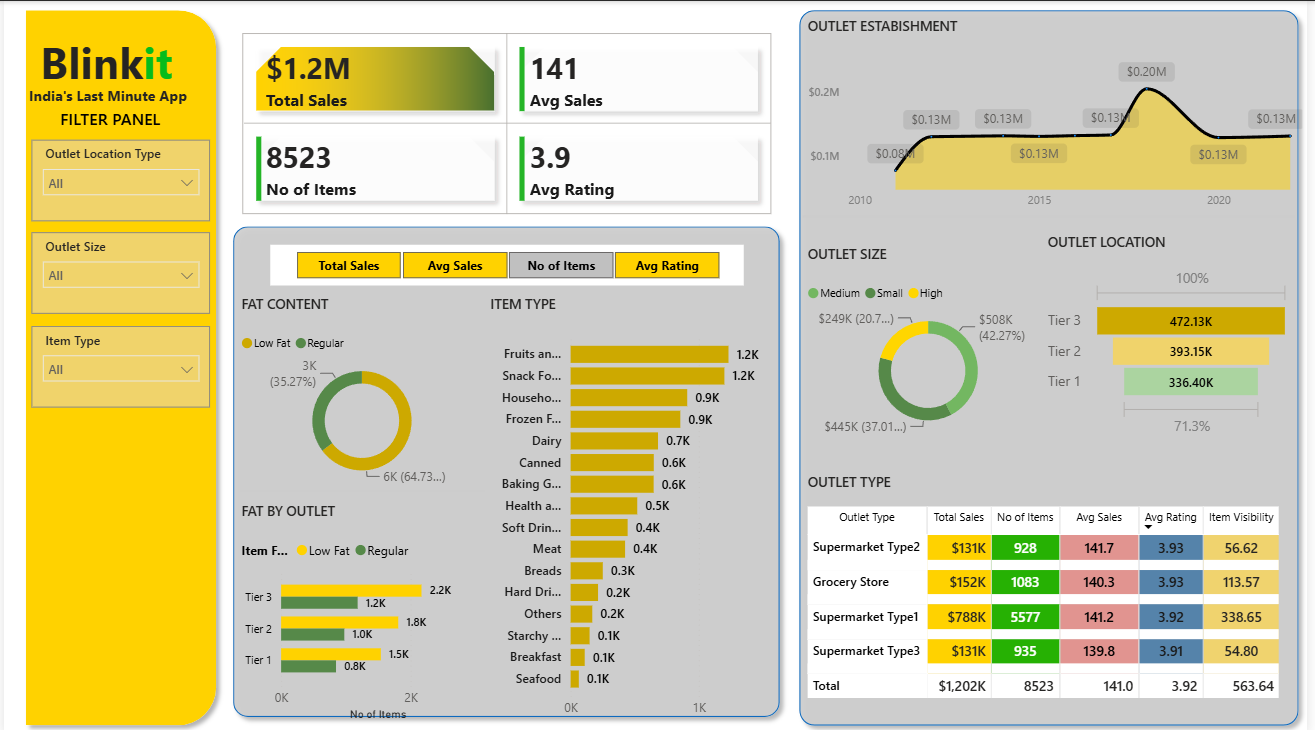

What the dashboard file says about the page in this screenshot:
{"tool":"powerbi","page":{"name":"Page 1","canvas":[1280,720],"ordinal":0},"visuals":[{"type":"shape","box":[12.3,0,205,720],"z":0},{"type":"textbox","box":[30.2,26.1,149.6,70],"z":1000},{"type":"textbox","box":[19.2,78.2,172.9,57.6],"z":2000},{"type":"cardVisual","fields":{"Data":["BlinkIT Grocery Data.Total Sales","BlinkIT Grocery Data.Avg Sales","BlinkIT Grocery Data.No of Items","BlinkIT Grocery Data.Avg Rating"]},"box":[217.2,14.7,553.4,212.3],"z":3000},{"type":"shape","box":[216,212.3,554.4,499.5],"z":4000},{"type":"donutChart","title":"FAT CONTENT","fields":{"Y":["BlinkIT Grocery Data.No of Items"],"Category":["BlinkIT Grocery Data.Item Fat Content"]},"box":[228.2,288.3,246.6,192.6],"z":5000},{"type":"slicer","fields":{"Values":["Metrics.Metrics"]},"box":[261.4,239.3,465,40],"z":6000},{"type":"clusteredBarChart","title":"FAT BY OUTLET","fields":{"Y":["BlinkIT Grocery Data.No of Items"],"Category":["BlinkIT Grocery Data.Outlet Location Type"],"Series":["BlinkIT Grocery Data.Item Fat Content"]},"box":[228.2,490.8,246.6,220.9],"z":7000},{"type":"shape","box":[231.9,466.3,240.5,29.4],"z":8000},{"type":"barChart","title":"ITEM TYPE","fields":{"Y":["BlinkIT Grocery Data.No of Items"],"Category":["BlinkIT Grocery Data.Item Type"]},"box":[472.4,288.3,284.7,423.3],"z":9000},{"type":"shape","box":[771.8,0,508,720.2],"z":10000},{"type":"lineChart","title":"OUTLET ESTABISHMENT","fields":{"Y":["BlinkIT Grocery Data.Total Sales"],"Category":["BlinkIT Grocery Data.Outlet Establishment Year"]},"box":[784.1,14.7,495.7,197.5],"z":11000},{"type":"shape","box":[784.1,196.3,483.4,30.7],"z":12000},{"type":"donutChart","title":"OUTLET SIZE","fields":{"Category":["BlinkIT Grocery Data.Outlet Size"],"Y":["BlinkIT Grocery Data.Total Sales"]},"box":[784.1,239.3,246.6,192.6],"z":13000},{"type":"funnel","title":"OUTLET LOCATION","fields":{"Y":["Sum(BlinkIT Grocery Data.Sales)"],"Category":["BlinkIT Grocery Data.Outlet Location Type"]},"box":[1019.6,227,247.9,204.9],"z":13001},{"type":"pivotTable","title":"OUTLET TYPE","fields":{"Values":["BlinkIT Grocery Data.Total Sales","BlinkIT Grocery Data.No of Items","BlinkIT Grocery Data.Avg Sales","BlinkIT Grocery Data.Avg Rating","Sum(BlinkIT Grocery Data.Item Visibility)"],"Rows":["BlinkIT Grocery Data.Outlet Type"]},"box":[784.1,462.6,483.4,245.4],"z":13002},{"type":"actionButton","box":[0,0,100,40],"z":13003},{"type":"slicer","fields":{"Values":["BlinkIT Grocery Data.Outlet Location Type"]},"box":[27,136.2,175.5,79.8],"z":13004},{"type":"slicer","fields":{"Values":["BlinkIT Grocery Data.Outlet Size"]},"box":[27,227,175.5,79.8],"z":13005},{"type":"slicer","fields":{"Values":["BlinkIT Grocery Data.Item Type"]},"box":[27,319,175.5,79.8],"z":13006},{"type":"textbox","box":[50.3,99.4,130.1,62.6],"z":13007}]}

Visuals, with their boxes in screenshot pixels (x1, y1, x2, y2), scaled from the page's 1280x720 canvas onto the 1315x730 screenshot:
shape: BBox(13, 0, 223, 729)
textbox: BBox(31, 26, 185, 97)
textbox: BBox(20, 79, 197, 138)
cardVisual - BlinkIT Grocery Data.Total Sales x BlinkIT Grocery Data.Avg Sales: BBox(223, 15, 792, 230)
shape: BBox(222, 215, 791, 722)
"FAT CONTENT" donutChart: BBox(234, 292, 488, 488)
slicer - Metrics.Metrics: BBox(269, 243, 746, 283)
"FAT BY OUTLET" clusteredBarChart: BBox(234, 498, 488, 722)
shape: BBox(238, 473, 485, 503)
"ITEM TYPE" barChart: BBox(485, 292, 778, 721)
shape: BBox(793, 0, 1314, 729)
"OUTLET ESTABISHMENT" lineChart: BBox(806, 15, 1314, 215)
shape: BBox(806, 199, 1302, 230)
"OUTLET SIZE" donutChart: BBox(806, 243, 1059, 438)
"OUTLET LOCATION" funnel: BBox(1047, 230, 1302, 438)
"OUTLET TYPE" pivotTable: BBox(806, 469, 1302, 718)
actionButton: BBox(0, 0, 103, 41)
slicer - BlinkIT Grocery Data.Outlet Location Type: BBox(28, 138, 208, 219)
slicer - BlinkIT Grocery Data.Outlet Size: BBox(28, 230, 208, 311)
slicer - BlinkIT Grocery Data.Item Type: BBox(28, 323, 208, 404)
textbox: BBox(52, 101, 185, 164)
